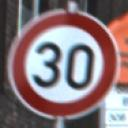speed_limit_30: (6, 8, 121, 119)
